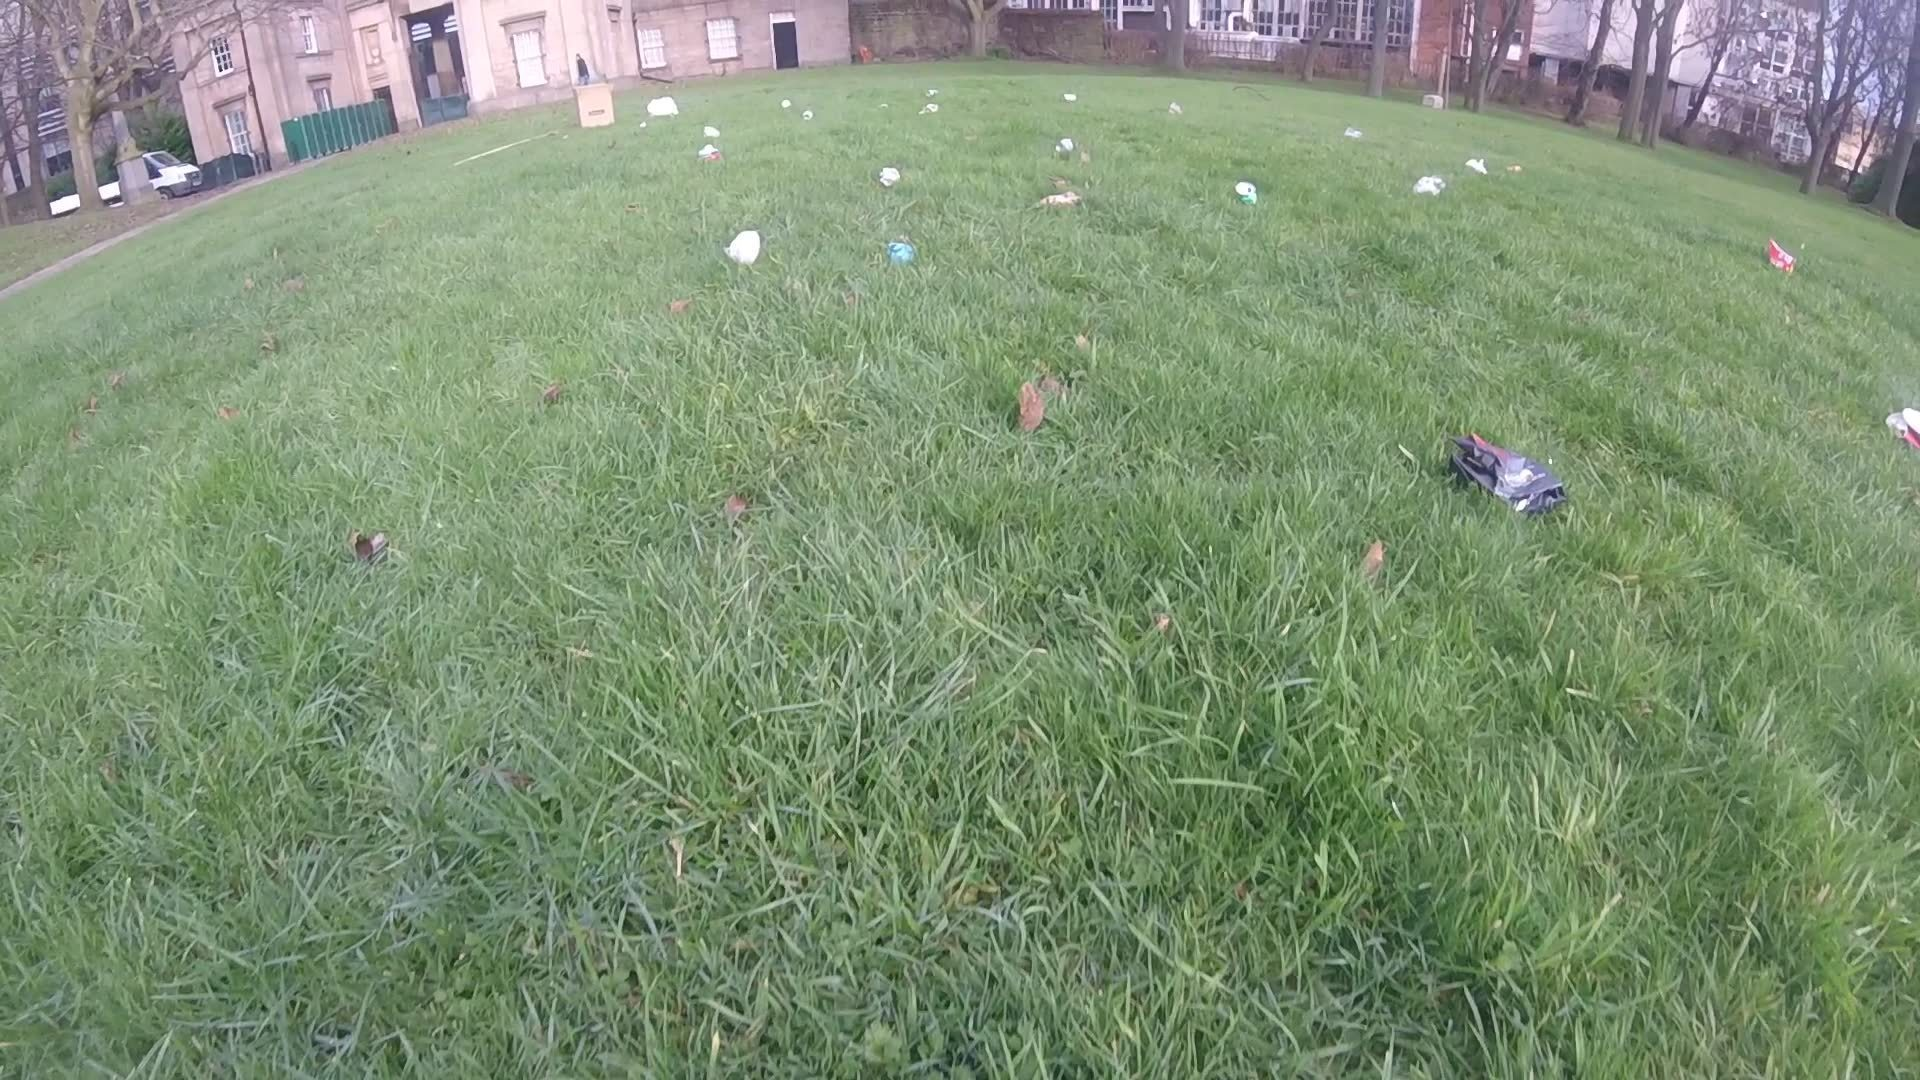litter: (1447, 435, 1567, 516), (574, 82, 617, 131), (724, 225, 762, 269), (1888, 405, 1917, 448), (1768, 237, 1797, 278), (1414, 175, 1444, 196), (647, 99, 680, 117), (1236, 181, 1258, 206), (887, 244, 916, 262), (1036, 193, 1077, 204), (878, 164, 899, 186), (1465, 156, 1486, 175), (1054, 138, 1073, 154), (702, 123, 723, 137), (698, 145, 721, 157), (1342, 127, 1364, 140), (1167, 102, 1185, 113), (920, 103, 940, 113), (926, 86, 940, 96), (1506, 165, 1524, 173), (1063, 94, 1079, 102), (781, 100, 793, 109), (804, 112, 816, 119), (641, 123, 647, 131)
